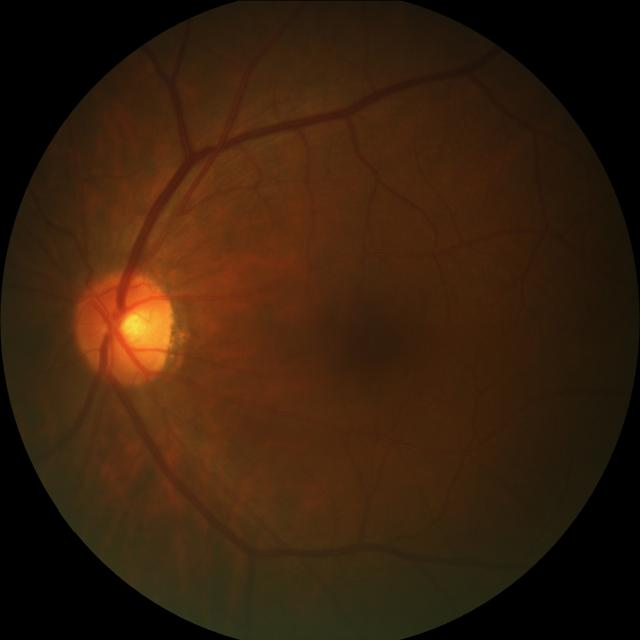OC: (111, 304, 156, 352)
OD: (78, 270, 178, 383)
